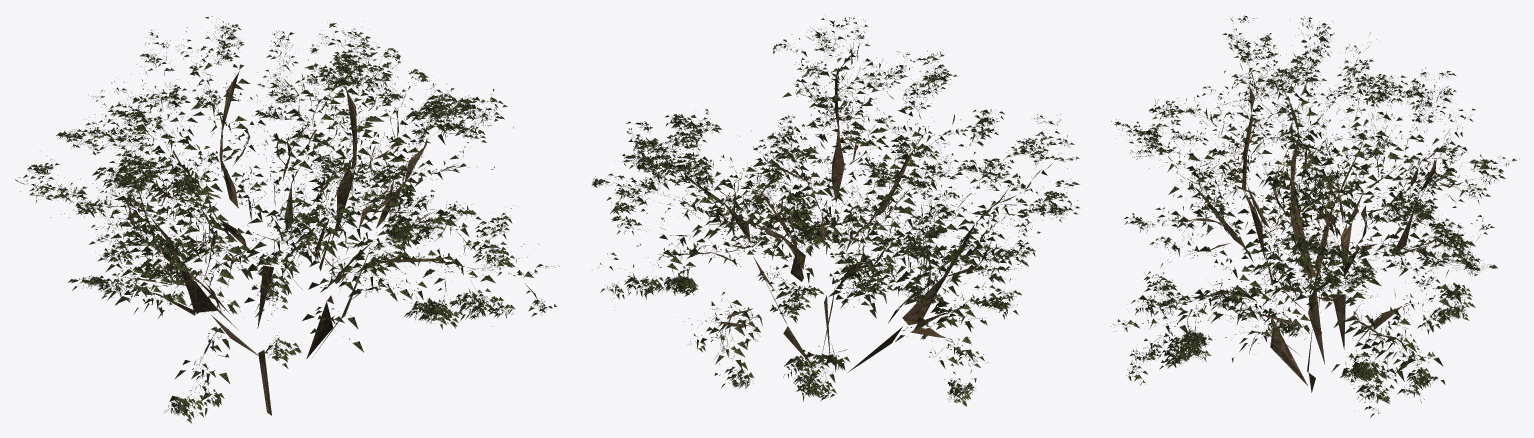
The model's file is jacaranda_tree.glb.
3 views of the same model, side by side, from view 1: azimuth 30°, elevation 25°; view 2: azimuth 150°, elevation 25°; view 3: azimuth 270°, elevation 25° (orthographic). The views are drawn at different scales.
Visible parts, largest first — view 1: jacaranda_tree_LOD0; view 2: jacaranda_tree_LOD0; view 3: jacaranda_tree_LOD0.
Boxes of the visible parts, x1,y1,x2,y2 form: jacaranda_tree_LOD0: (15,16,559,423); jacaranda_tree_LOD0: (591,17,1079,406); jacaranda_tree_LOD0: (1110,15,1519,417).
Bounding box in the file's own units: 24.09 × 18.87 × 18.59.
Materials: 3 (3 with a texture image).
